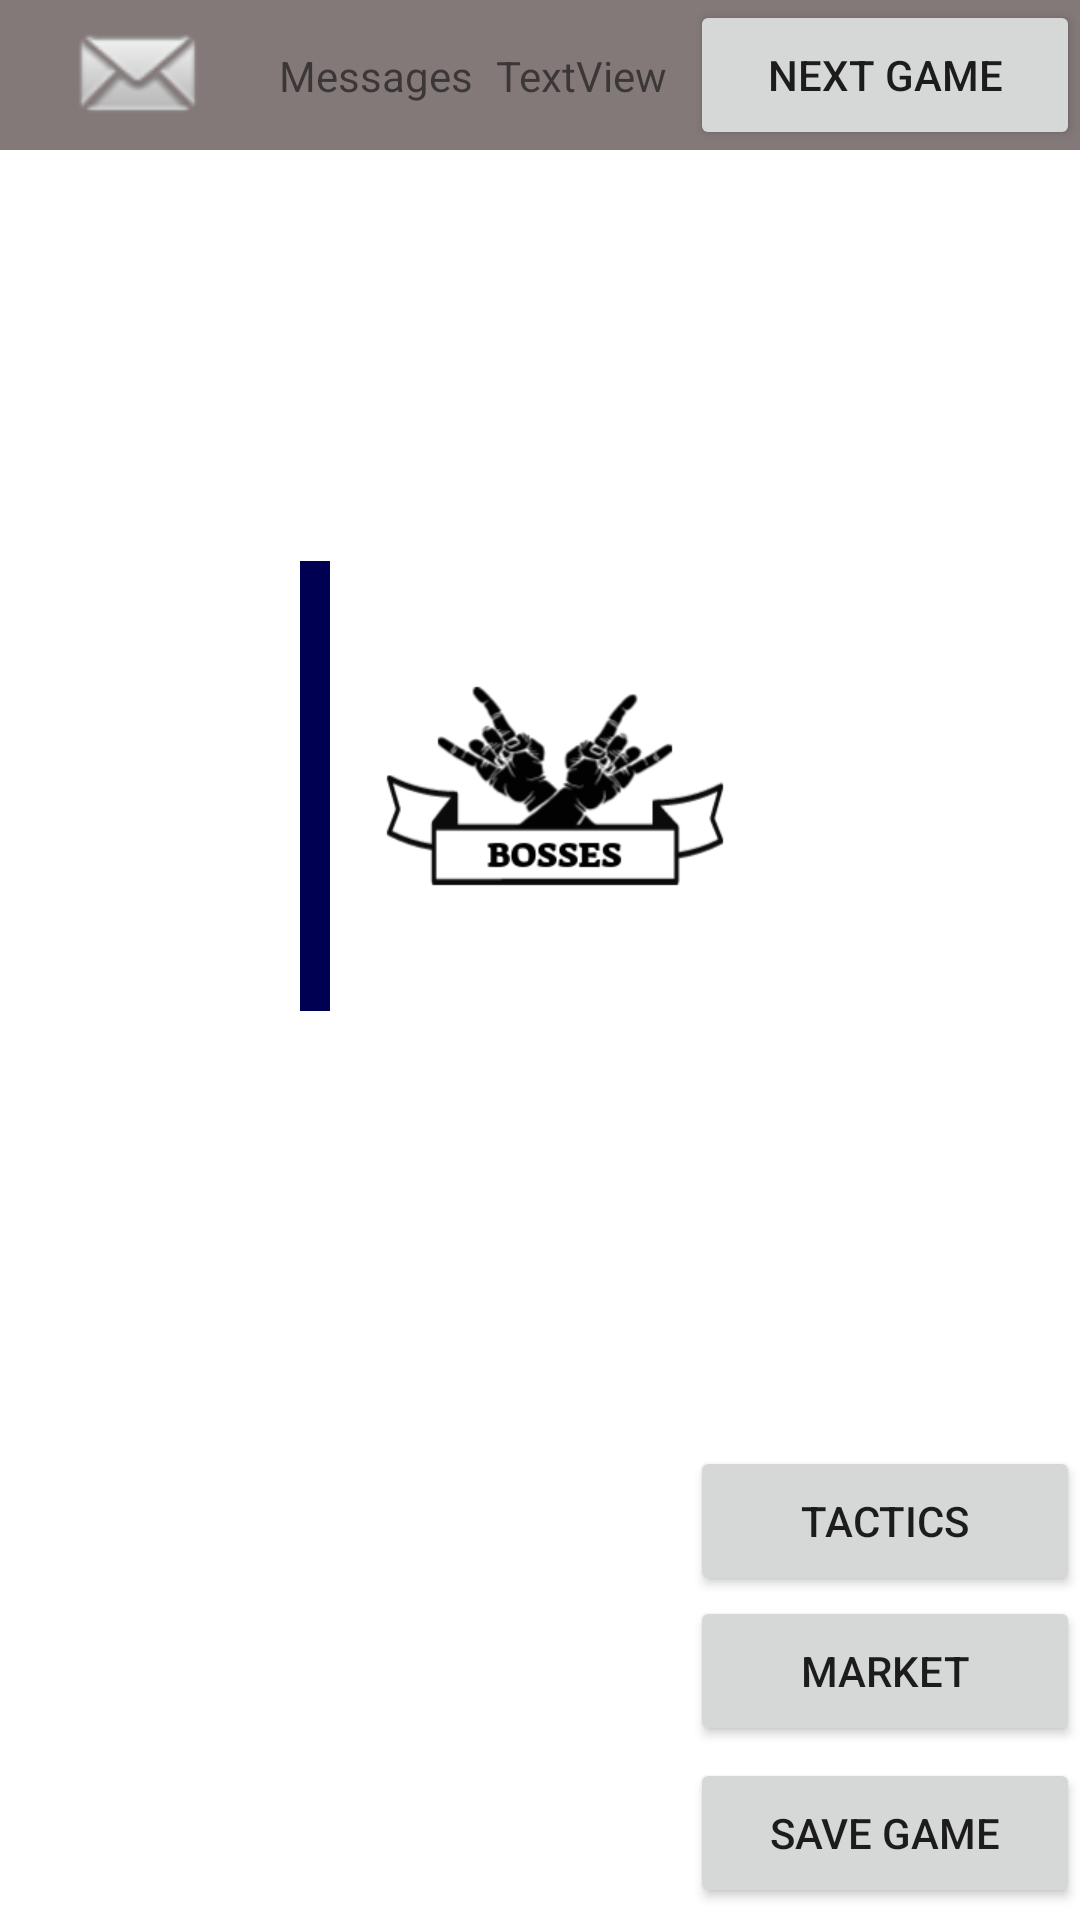

Icon bounding boxes for this 1080 × 1920 phone screenshot, format bbox=[x1, y1, x2, y2]:
sym action email: bbox=[80, 36, 195, 111]
